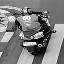mobil: (11, 7, 55, 54)
